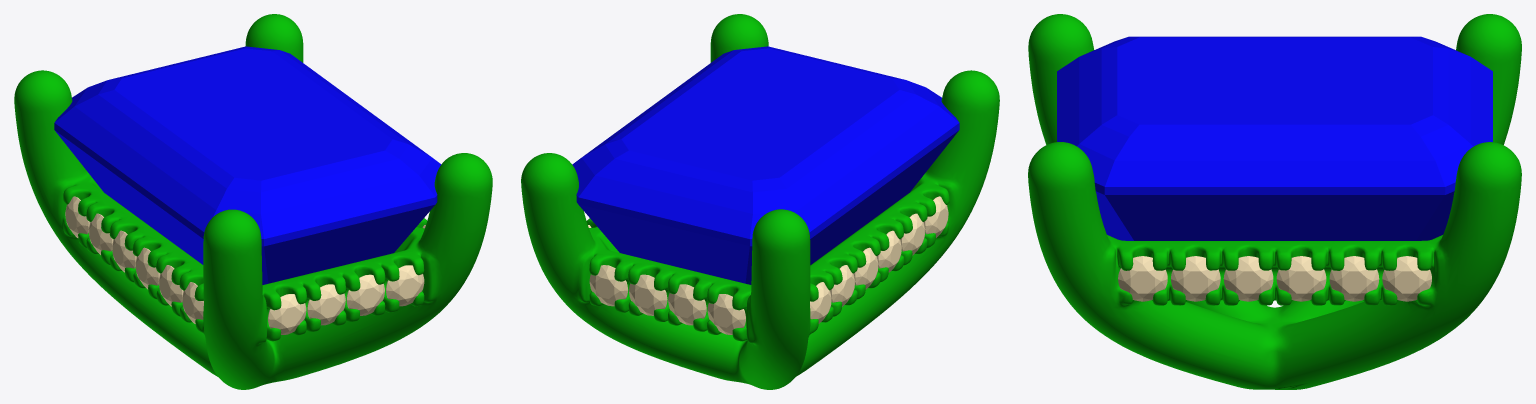
3 views of the same model, side by side, from view 1: azimuth 30°, elevation 25°; view 2: azimuth 150°, elevation 25°; view 3: azimuth 270°, elevation 25° (orthographic). The views are drawn at different scales.
Parts seen in each view (by area): view 1: Diamond_Emerald, Metal01, Diamond_Round.001, Diamond_Round.004, Diamond_Round.003, Diamond_Round.002, Diamond_Round.013, Diamond_Round.011, Diamond_Round.012, Diamond_Round.014, Diamond_Round.015, Diamond_Round.016; view 2: Diamond_Emerald, Metal01, Diamond_Round, Diamond_Round.018, Diamond_Round.019, Diamond_Round.017, Diamond_Round.012, Diamond_Round.015, Diamond_Round.011, Diamond_Round.014, Diamond_Round.016, Diamond_Round.013; view 3: Diamond_Emerald, Metal01, Diamond_Round.008, Diamond_Round.007, Diamond_Round.009, Diamond_Round.005, Diamond_Round.010, Diamond_Round.006.
Part boxes in pixels (left/top/right/bottom): Diamond_Emerald: left=54, top=46, right=441, bottom=284; Metal01: left=14, top=14, right=492, bottom=389; Diamond_Round.001: left=268, top=294, right=306, bottom=334; Diamond_Round.004: left=385, top=265, right=424, bottom=306; Diamond_Round.003: left=346, top=274, right=384, bottom=315; Diamond_Round.002: left=307, top=284, right=345, bottom=325; Diamond_Round.013: left=65, top=196, right=90, bottom=237; Diamond_Round.011: left=112, top=230, right=136, bottom=272; Diamond_Round.012: left=88, top=213, right=113, bottom=254; Diamond_Round.014: left=135, top=247, right=160, bottom=289; Diamond_Round.015: left=158, top=265, right=183, bottom=306; Diamond_Round.016: left=182, top=282, right=203, bottom=323; Diamond_Emerald: left=572, top=46, right=959, bottom=284; Metal01: left=521, top=14, right=999, bottom=389; Diamond_Round: left=668, top=284, right=706, bottom=325; Diamond_Round.018: left=589, top=265, right=627, bottom=306; Diamond_Round.019: left=629, top=274, right=667, bottom=315; Diamond_Round.017: left=707, top=294, right=745, bottom=334; Diamond_Round.012: left=830, top=265, right=855, bottom=306; Diamond_Round.015: left=900, top=213, right=925, bottom=255; Diamond_Round.011: left=853, top=247, right=878, bottom=289; Diamond_Round.014: left=877, top=230, right=901, bottom=272; Diamond_Round.016: left=923, top=196, right=948, bottom=237; Diamond_Round.013: left=810, top=282, right=831, bottom=323; Diamond_Emerald: left=1057, top=36, right=1492, bottom=240; Metal01: left=1028, top=14, right=1521, bottom=389; Diamond_Round.008: left=1276, top=256, right=1326, bottom=301; Diamond_Round.007: left=1223, top=256, right=1273, bottom=301; Diamond_Round.009: left=1329, top=256, right=1379, bottom=301; Diamond_Round.005: left=1118, top=256, right=1167, bottom=301; Diamond_Round.010: left=1382, top=256, right=1431, bottom=301; Diamond_Round.006: left=1171, top=256, right=1220, bottom=301.
Size of the model in its own units: 8.14 by 7.16 by 10.93.
